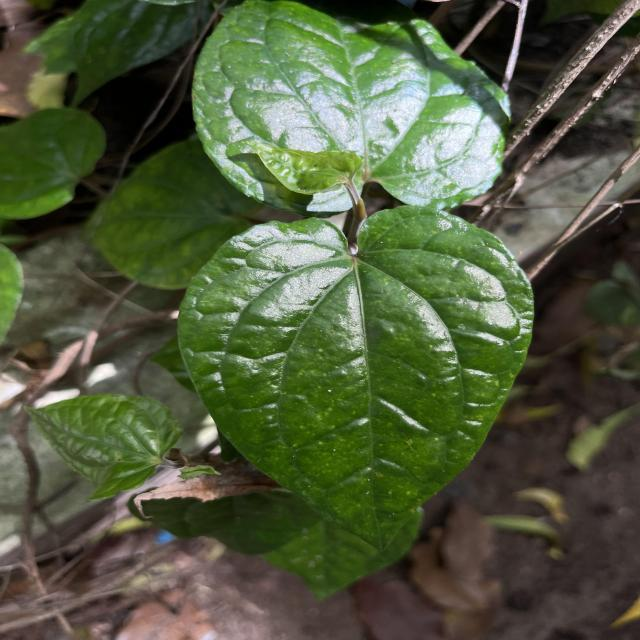Piper betle: (174, 200, 539, 554)
